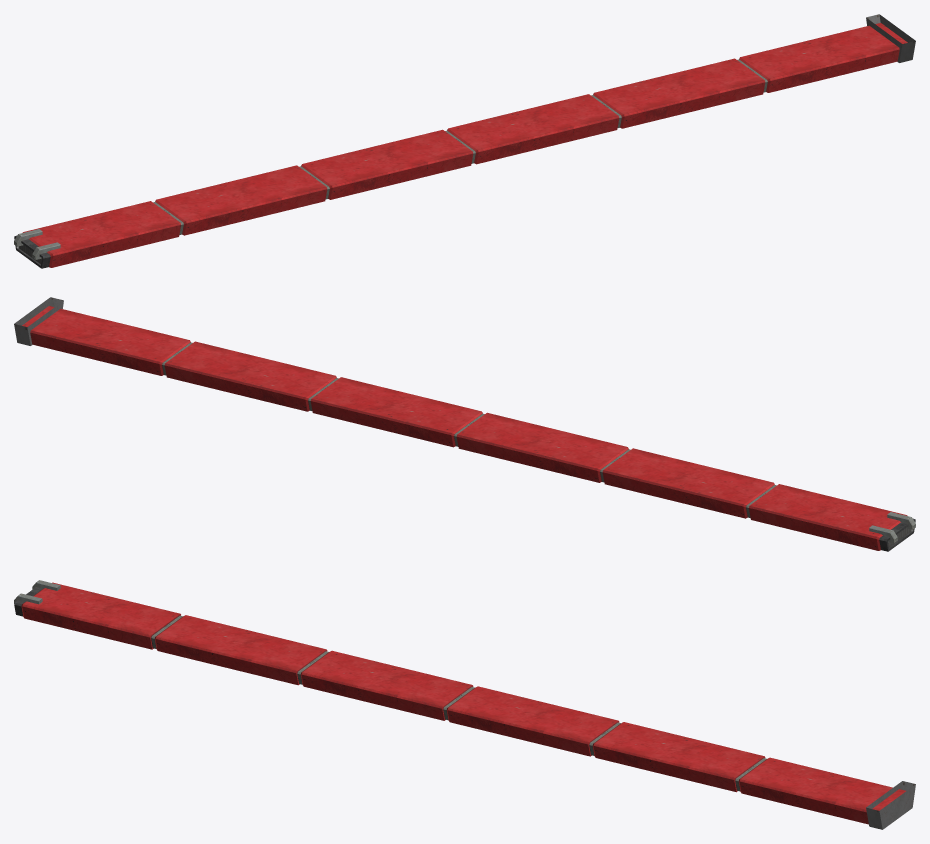
Rendered from Ob_WallSupport1_RC.fbx.
3 views of the same model, one above another, from view 1: azimuth 30°, elevation 25°; view 2: azimuth 150°, elevation 25°; view 3: azimuth 330°, elevation 25° (orthographic).
Parts seen in each view (by area): view 1: Ob_WallSupport1_RC; view 2: Ob_WallSupport1_RC; view 3: Ob_WallSupport1_RC.
Part boxes in pixels (x1,y1,x2,y2): Ob_WallSupport1_RC: [14, 14, 915, 268]; Ob_WallSupport1_RC: [14, 297, 915, 551]; Ob_WallSupport1_RC: [14, 580, 915, 829].
Bounding box in the file's own units: 9569 × 225 × 694.
